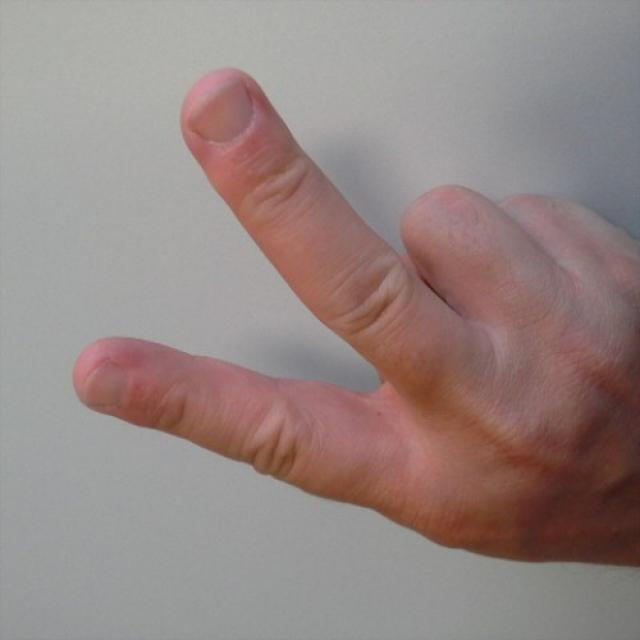scissors: (78, 67, 640, 570)
